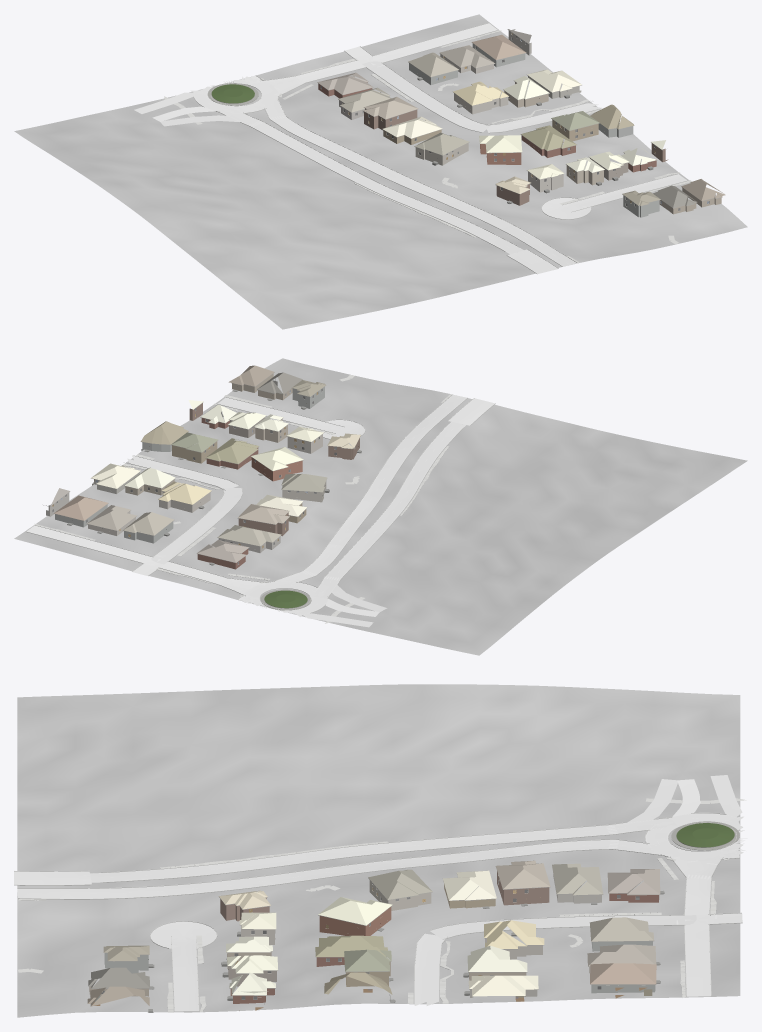
The picture shows the model from 3 angles, top to bottom: view 1: azimuth 30°, elevation 25°; view 2: azimuth 150°, elevation 25°; view 3: azimuth 270°, elevation 25°; orthographic projection. The views are drawn at different scales.
Visible parts, largest first — view 1: ground, roof, asphalt, concrete, wall, wall_stucco, curb, detail, walk, mark_w; view 2: ground, roof, asphalt, concrete, wall, wall_stucco, curb, detail, walk, mark_w, wall_stone; view 3: ground, roof, asphalt, concrete, curb, wall, detail, wall_stucco, walk, mark_w, mark_y.
Boxes of the visible parts, x1=… form: ground: x1=14, y1=14, x2=747, y2=329; roof: x1=317, y1=29, x2=725, y2=207; asphalt: x1=193, y1=76, x2=576, y2=273; concrete: x1=134, y1=23, x2=687, y2=219; wall: x1=318, y1=82, x2=721, y2=214; wall_stucco: x1=409, y1=43, x2=659, y2=217; curb: x1=193, y1=23, x2=689, y2=273; detail: x1=207, y1=29, x2=722, y2=210; walk: x1=164, y1=30, x2=691, y2=262; mark_w: x1=194, y1=56, x2=575, y2=273; ground: x1=14, y1=358, x2=747, y2=655; roof: x1=50, y1=365, x2=360, y2=562; asphalt: x1=238, y1=395, x2=494, y2=615; concrete: x1=26, y1=397, x2=387, y2=627; wall: x1=125, y1=373, x2=359, y2=569; wall_stucco: x1=55, y1=386, x2=326, y2=543; curb: x1=26, y1=394, x2=495, y2=613; detail: x1=43, y1=372, x2=361, y2=610; walk: x1=34, y1=375, x2=451, y2=623; mark_w: x1=150, y1=395, x2=494, y2=614; wall_stone: x1=46, y1=492, x2=280, y2=552; ground: x1=17, y1=684, x2=740, y2=1017; roof: x1=87, y1=860, x2=660, y2=1006; asphalt: x1=14, y1=813, x2=747, y2=898; concrete: x1=150, y1=775, x2=743, y2=1011; curb: x1=14, y1=812, x2=742, y2=1010; wall: x1=89, y1=871, x2=658, y2=1010; detail: x1=88, y1=821, x2=739, y2=1012; wall_stucco: x1=104, y1=880, x2=655, y2=997; walk: x1=18, y1=798, x2=746, y2=1012; mark_w: x1=17, y1=813, x2=739, y2=924; mark_y: x1=17, y1=828, x2=737, y2=889.
Size of the model in its own units: 253 by 15.76 by 254.
